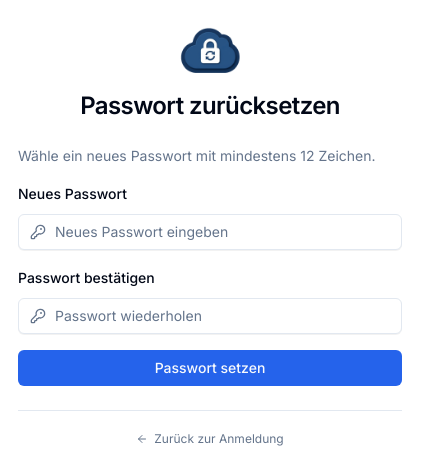
Scenario: PasswordResetPage — confirm form (with token) › validates password length and match
The image size is (421, 475).
Step 1. Type "short" into the password field labelled "Neues Passwort" → (210, 232), box [18, 214, 402, 250]
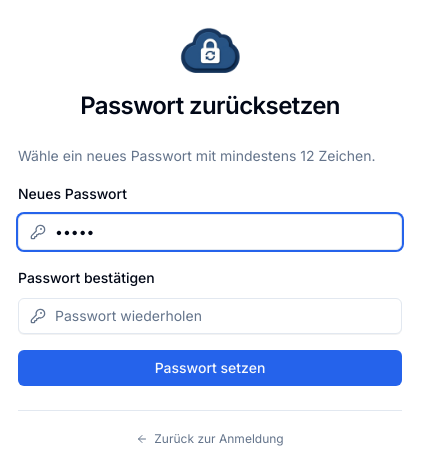
Step 2. Type "short" into the password field labelled "Passwort bestätigen" → (210, 316), box [18, 298, 402, 334]
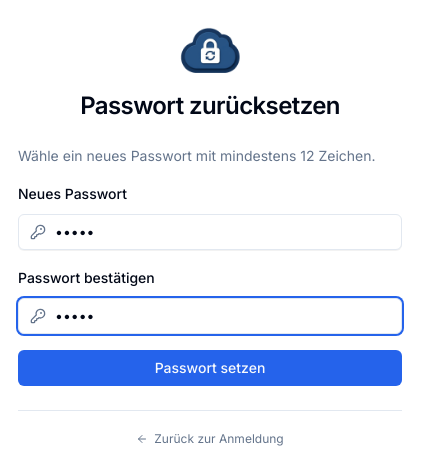
Step 3. Click the button "Passwort setzen" → (210, 368), box [18, 350, 402, 386]
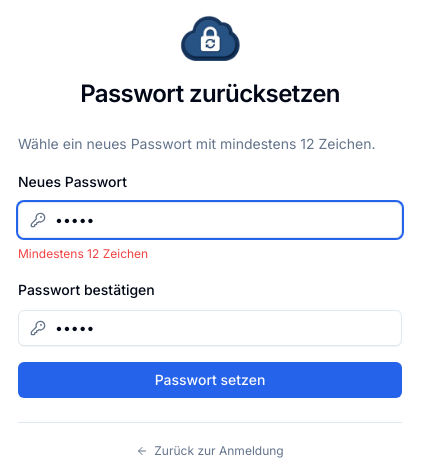
Expected: the text "Mindestens 12 Zeichen" is shown, [18, 246, 148, 260]
